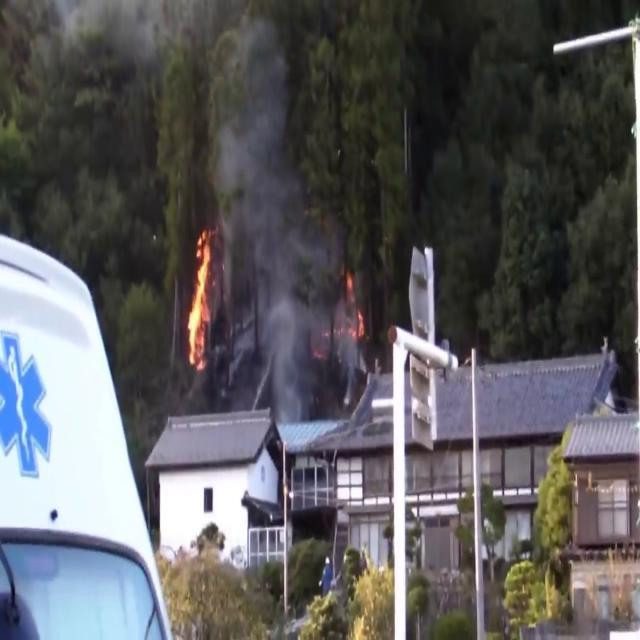Fire: (183, 218, 217, 372), (341, 268, 369, 359)
Smoke: (208, 28, 334, 414)
